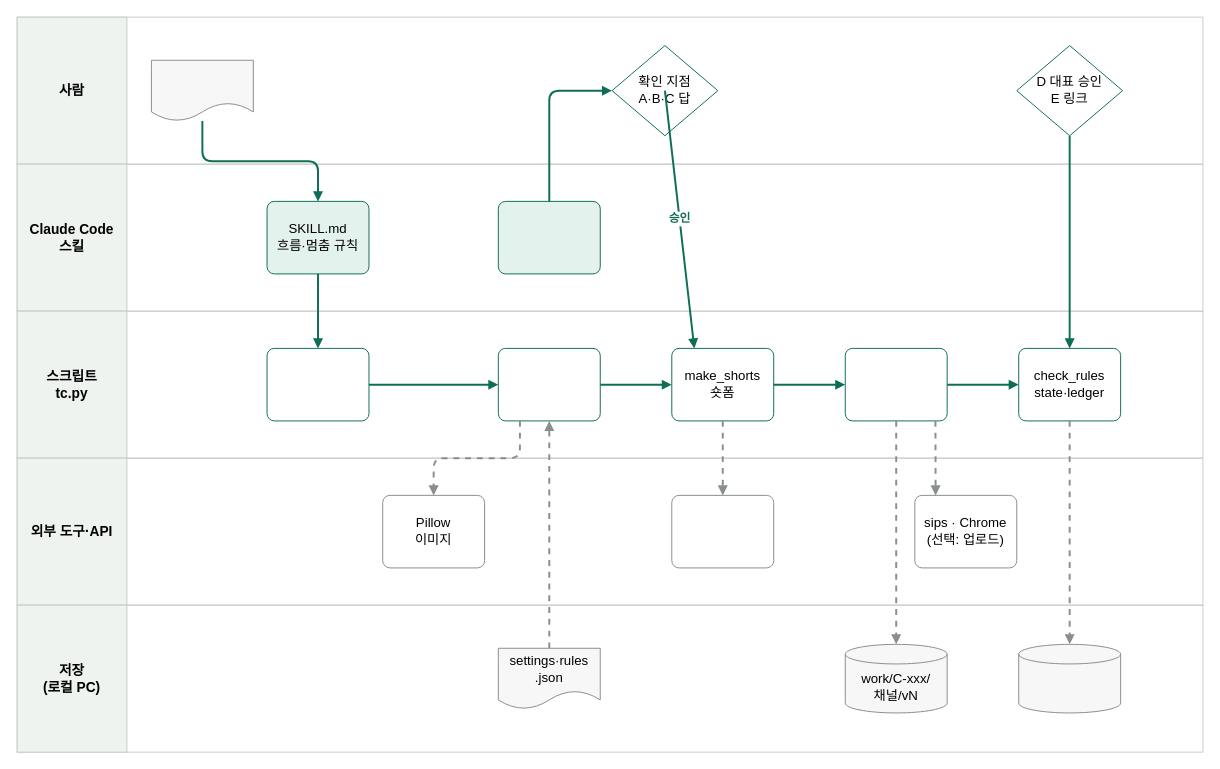
This 1220x769 diagram has some shape labels left out. Here are the shapes that lost their labels. From the top down, the centre of each, then its label:
At (x=201, y=90): "사진 폴더 + 장소".
At (x=548, y=237): "prompts/ 채널별 작성 규칙".
At (x=317, y=384): "insta-pick·use 사진·시트".
At (x=548, y=384): "render_cards 인스타 카드".
At (x=895, y=384): "build_blog 블로그".
At (x=722, y=531): "ffmpeg · OpenAI TTS".
At (x=1069, y=678): "ledger.xlsx".
